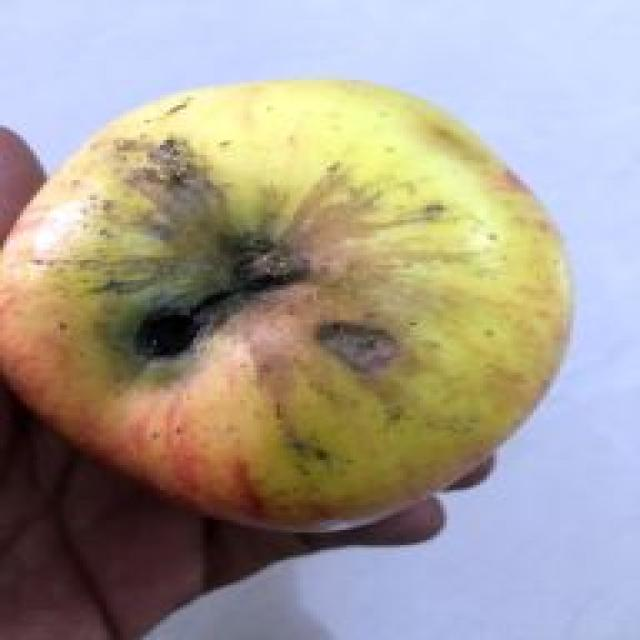Bad_Apple: (3, 81, 570, 529)
